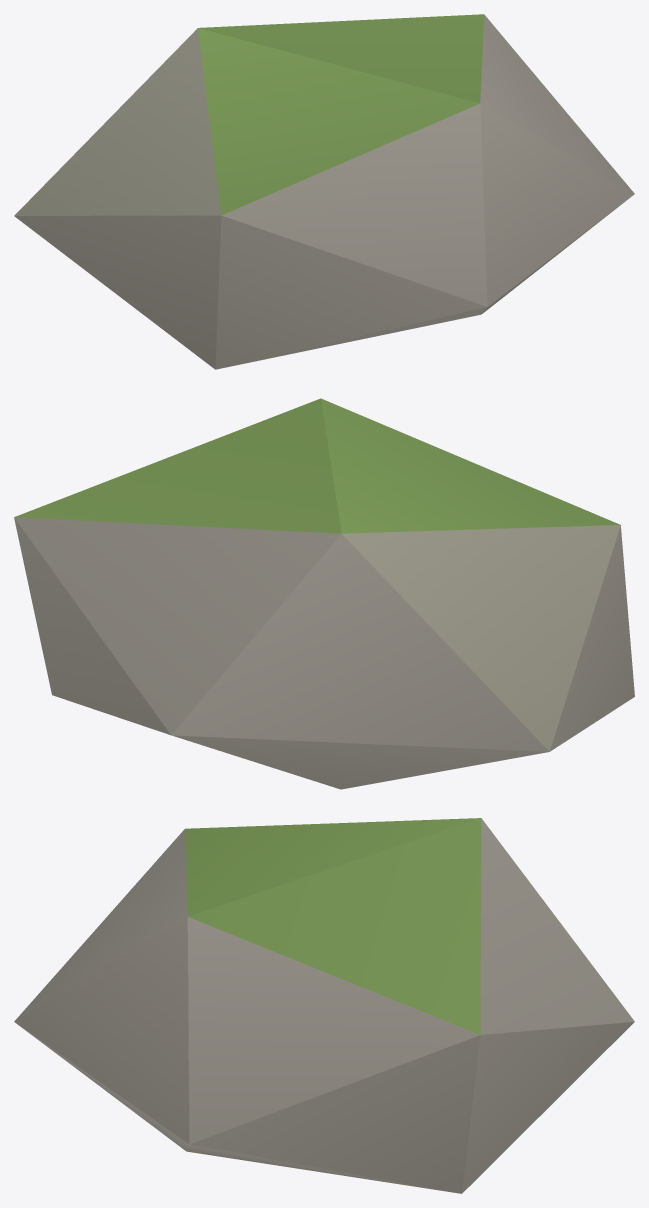
Rendered from rock_3.glb.
The picture shows the model from 3 angles, top to bottom: view 1: azimuth 30°, elevation 25°; view 2: azimuth 150°, elevation 25°; view 3: azimuth 270°, elevation 25°; orthographic projection. The views are drawn at different scales.
Parts seen in each view (by area): view 1: rock_3; view 2: rock_3; view 3: rock_3.
Boxes of the visible parts, box(x1,y1,x2,y2) form: rock_3: box(14, 14, 634, 369); rock_3: box(14, 398, 634, 789); rock_3: box(14, 818, 634, 1193).
Bounding box in the file's own units: 1.51 × 0.671 × 1.49.
